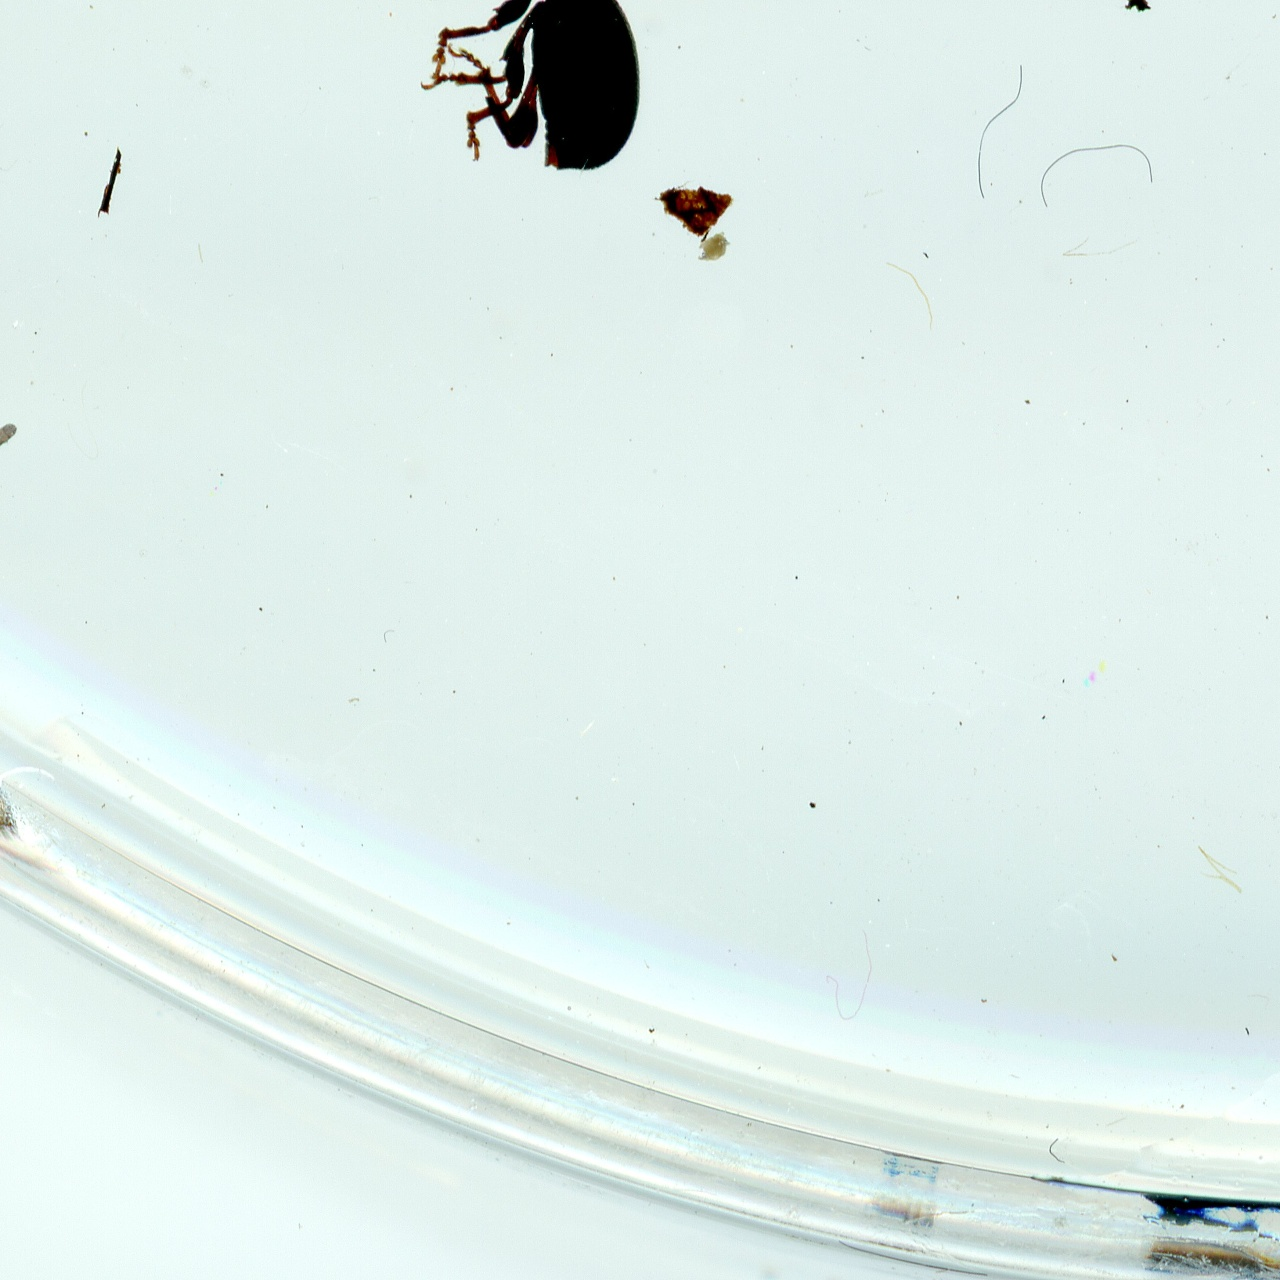arthropod: (415, 0, 680, 181), (0, 418, 22, 464)
